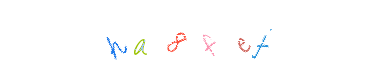8: (139, 0, 219, 80)
A: (130, 0, 210, 80)
E: (154, 0, 234, 80)
F: (145, 0, 225, 80)
H: (99, 0, 179, 80)
J: (161, 0, 241, 80)
